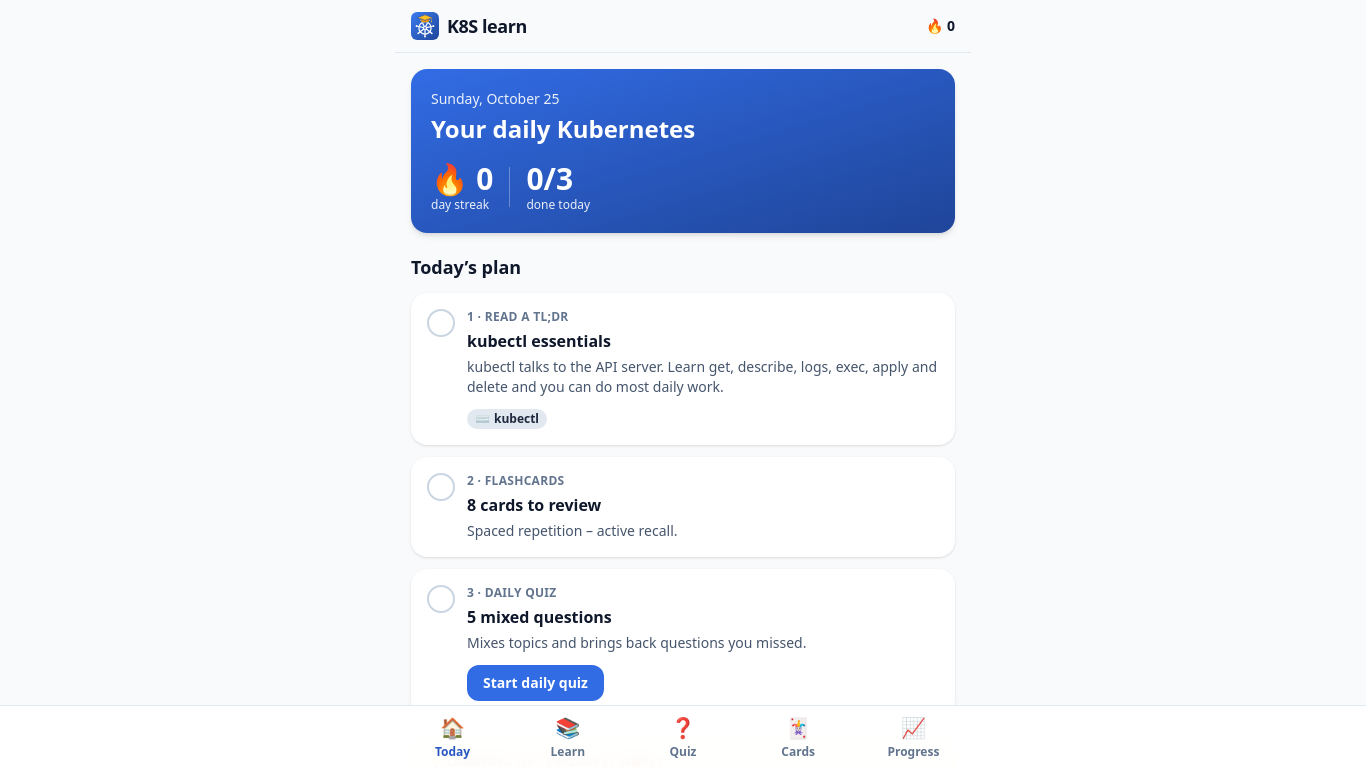
App › navigates between all tabs
Step 1. Click the button "📚 Learn" → (568, 737), box 510,706 -> 625,767
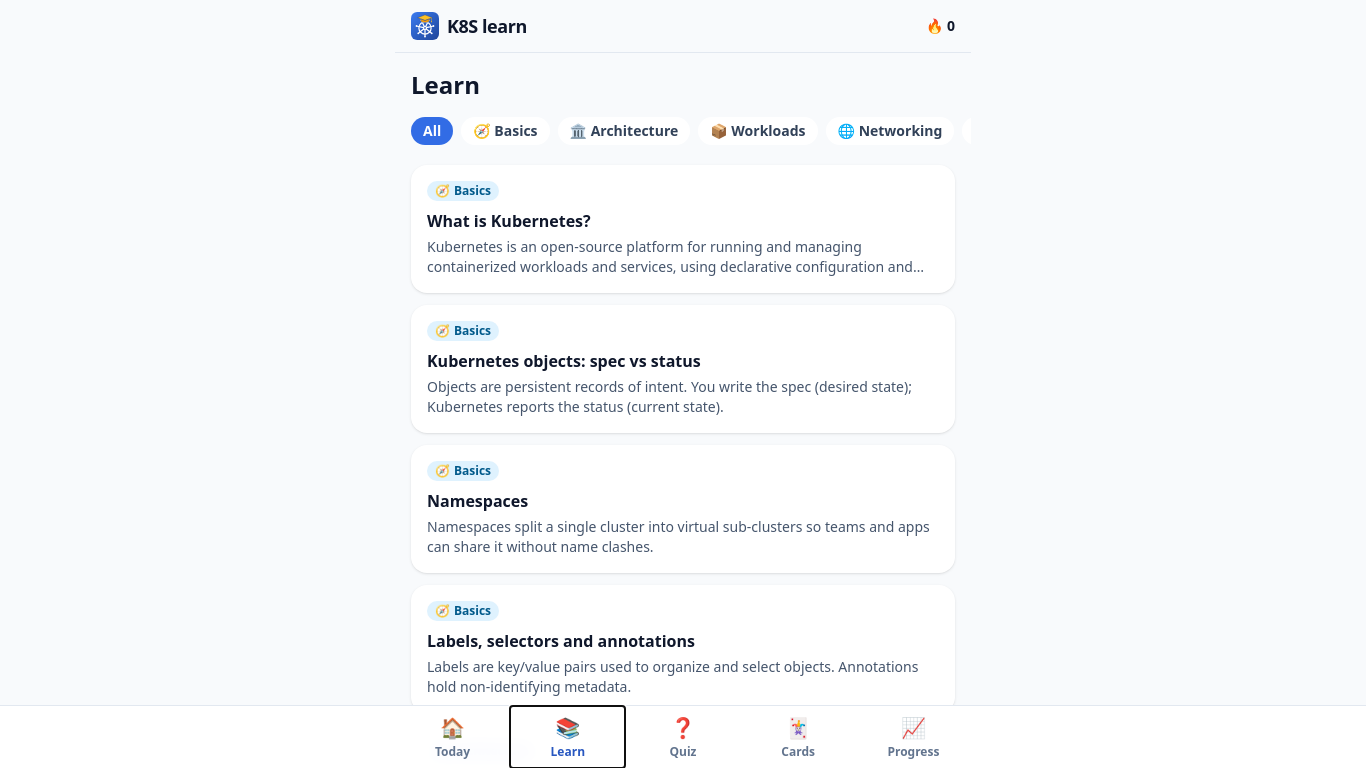
Check: the heading "Learn" is shown, box 411,68 -> 480,101
Step 2. Click the button "❓ Quiz" → (683, 737), box 625,706 -> 741,767
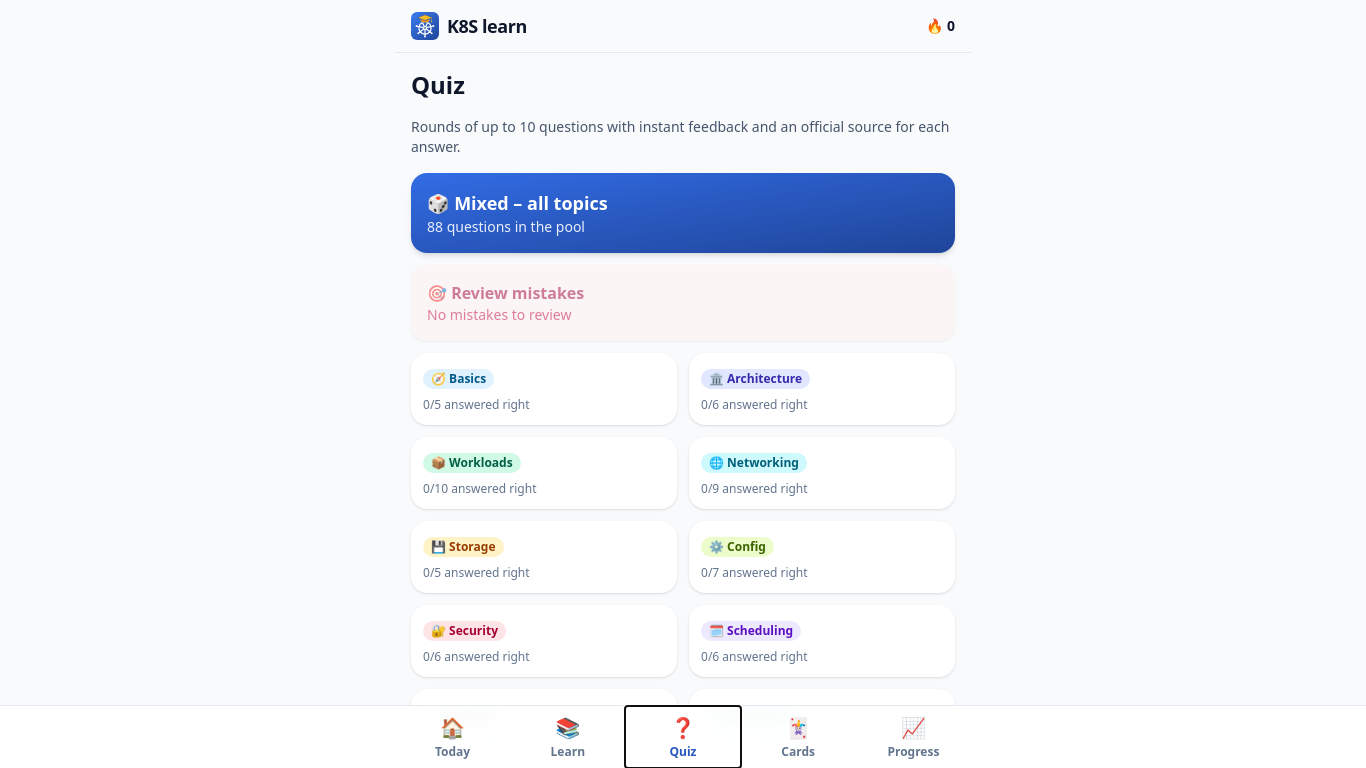
Check: the heading "Quiz" is shown, box 411,68 -> 465,101
Step 3. Click the button "🃏 Cards" → (798, 737), box 741,706 -> 856,767
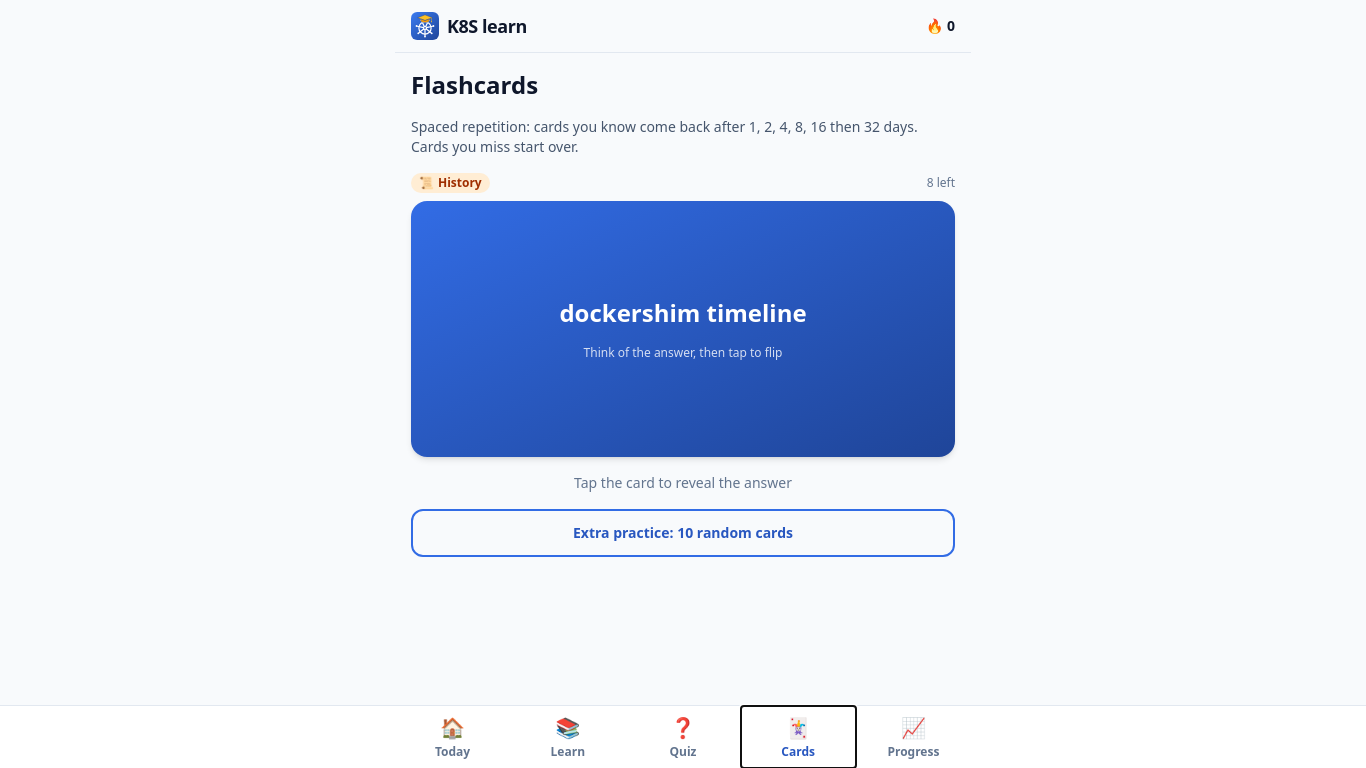
Check: the heading "Flashcards" is shown, box 411,68 -> 538,101
Step 4. Click the button "📈 Progress" → (913, 737), box 856,706 -> 971,767
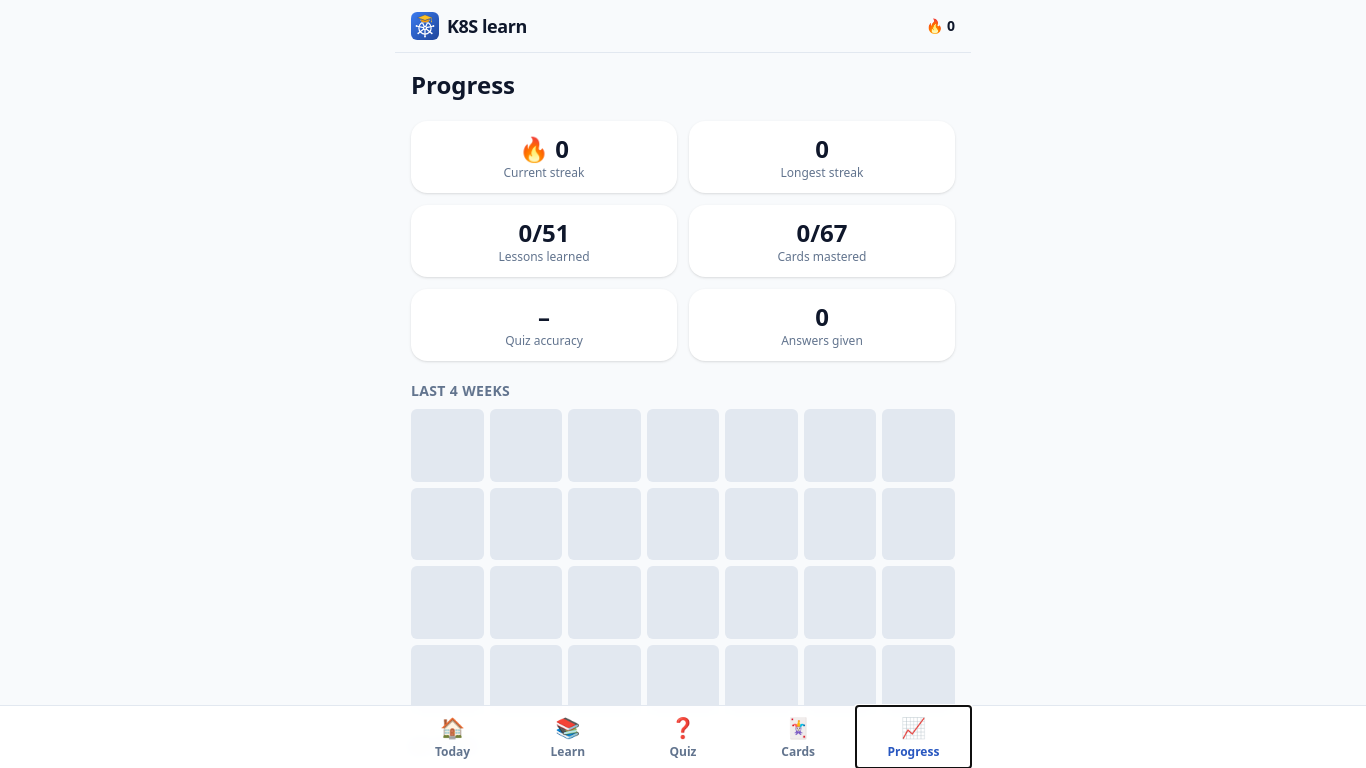
Check: the heading "Progress" is shown, box 411,68 -> 515,101
Step 5. Click the button "🏠 Today" → (453, 737), box 395,706 -> 510,767
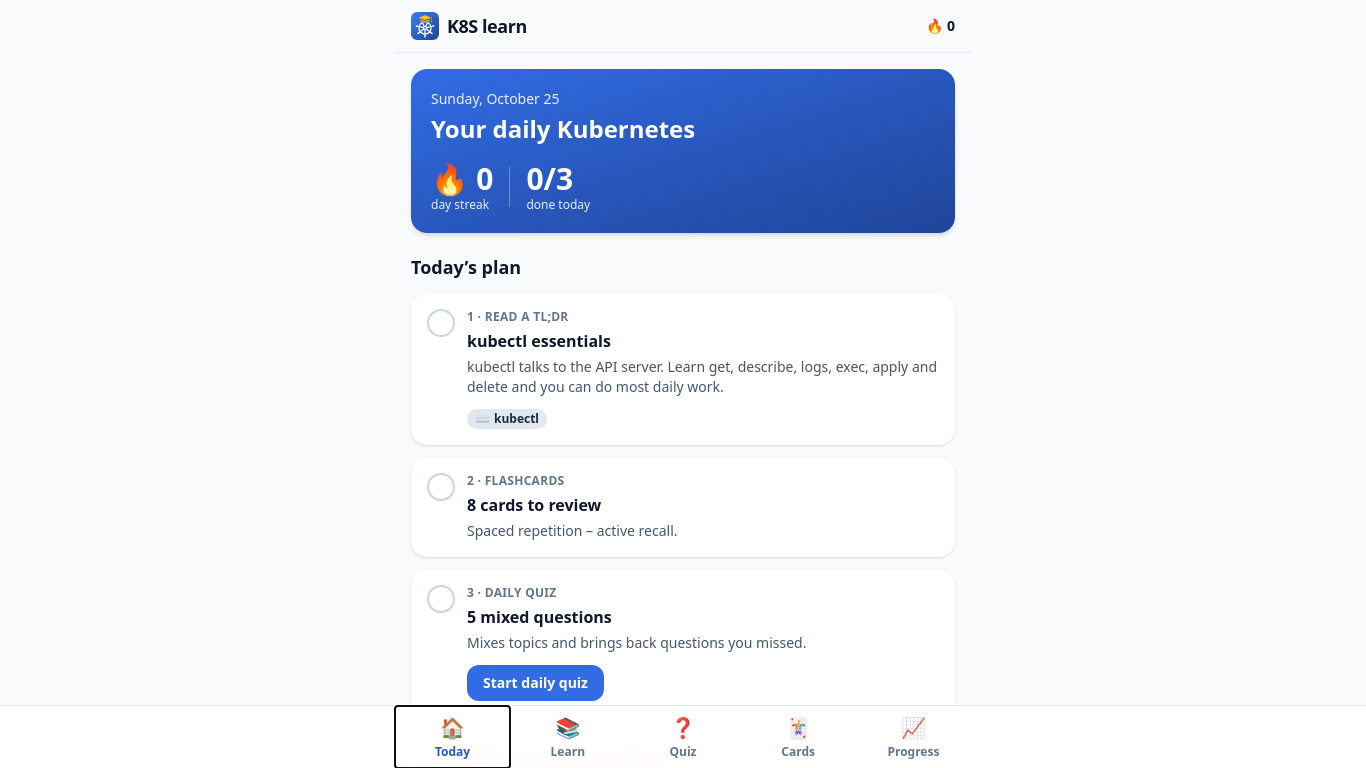
Check: the heading "Today’s plan" is shown, box 411,255 -> 521,279
